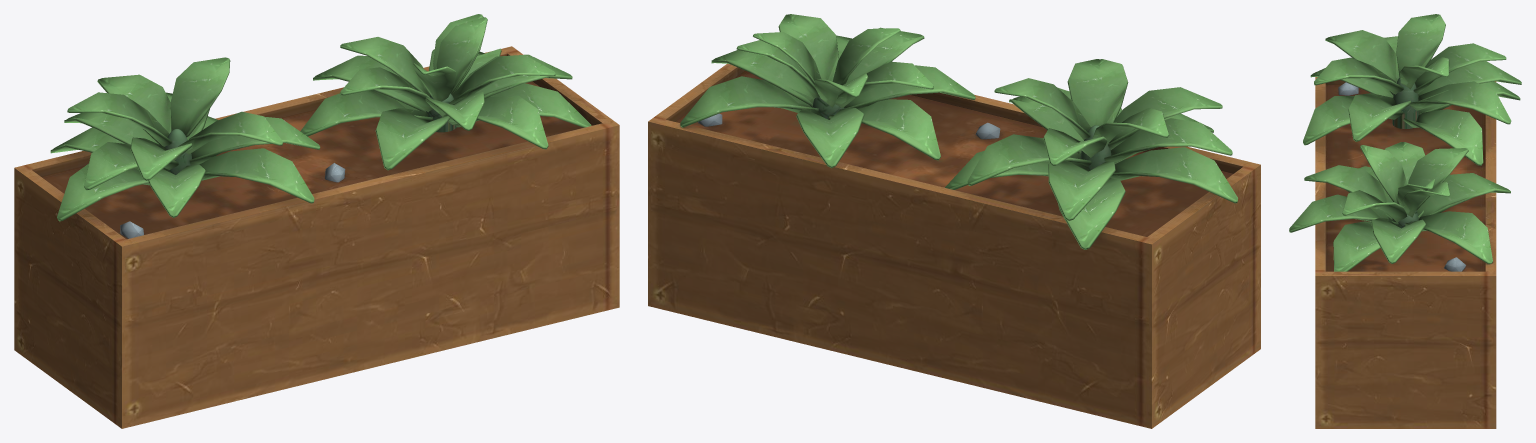
File: Plant 2.obj
The picture shows the model from 3 angles, left to right: view 1: azimuth 30°, elevation 25°; view 2: azimuth 150°, elevation 25°; view 3: azimuth 270°, elevation 25°; orthographic projection. The views are drawn at different scales.
Parts seen in each view (by area): view 1: Plant_2; view 2: Plant_2; view 3: Plant_2.
Part boxes in pixels (bbox=[...]): Plant_2: bbox=[14, 14, 619, 428]; Plant_2: bbox=[648, 14, 1260, 428]; Plant_2: bbox=[1289, 14, 1521, 428].
Bounding box in the file's own units: 3.33 × 1.67 × 1.54.
